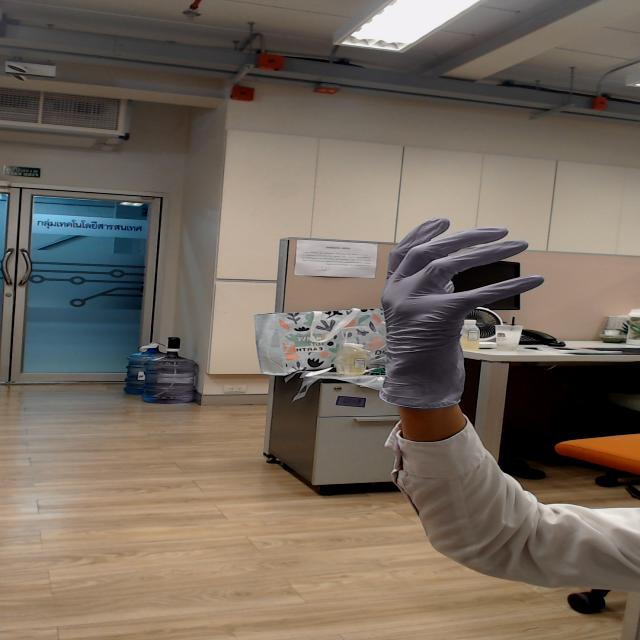glove: (352, 207, 574, 388)
